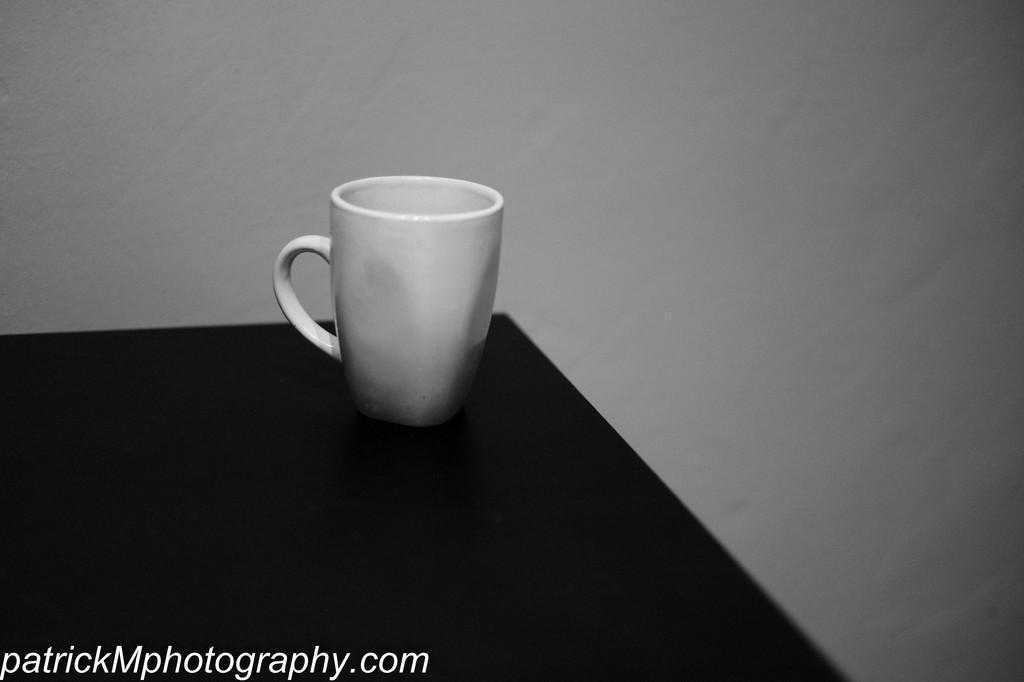cup-handle: (272, 174, 505, 428)
